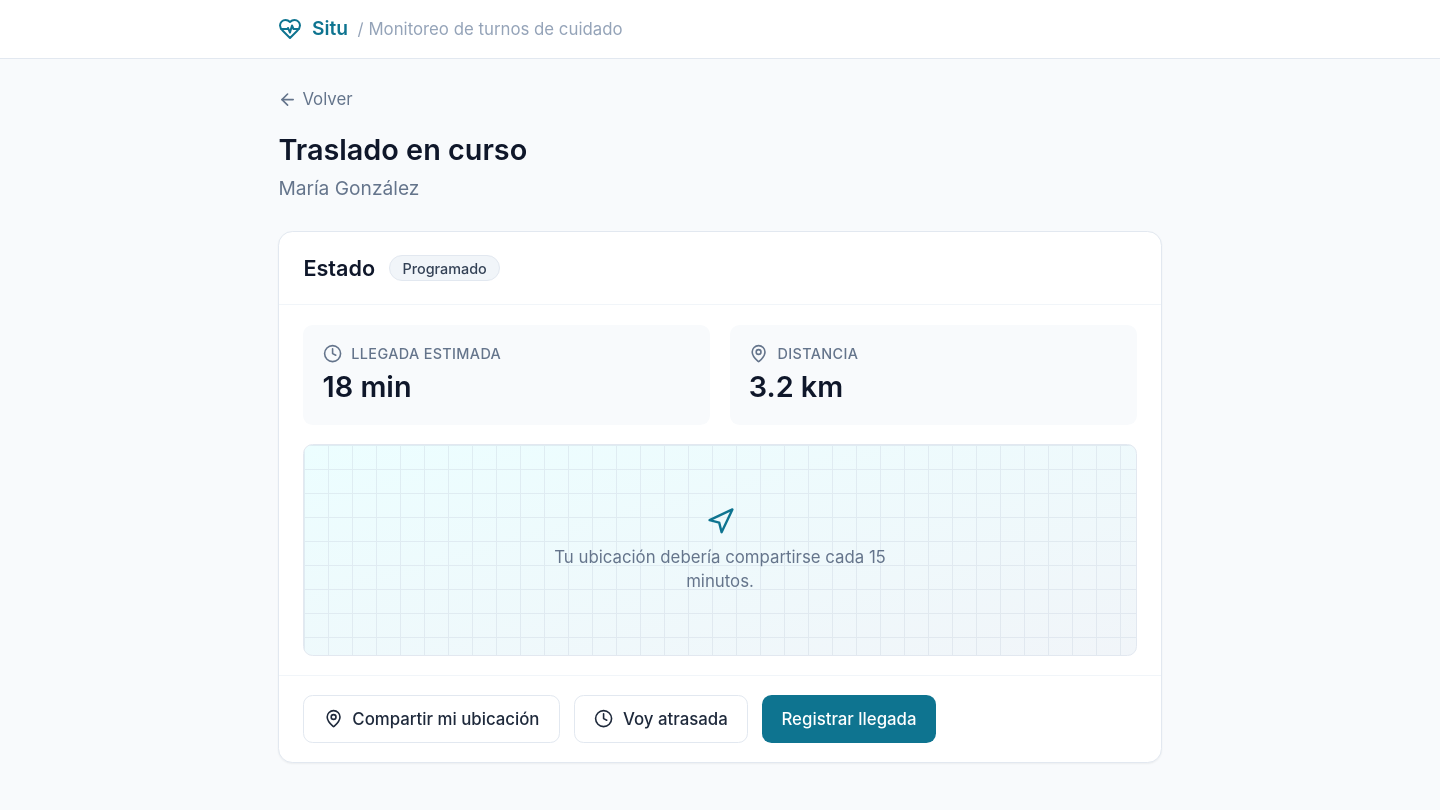
Test: TripTracking › opens the demo location dialog and reports on time without a delay
What coordinates should you click on to do the following:
click the button "Compartir mi ubicación"
I would click on:
 (432, 719)
Its box is [303,695,560,743].
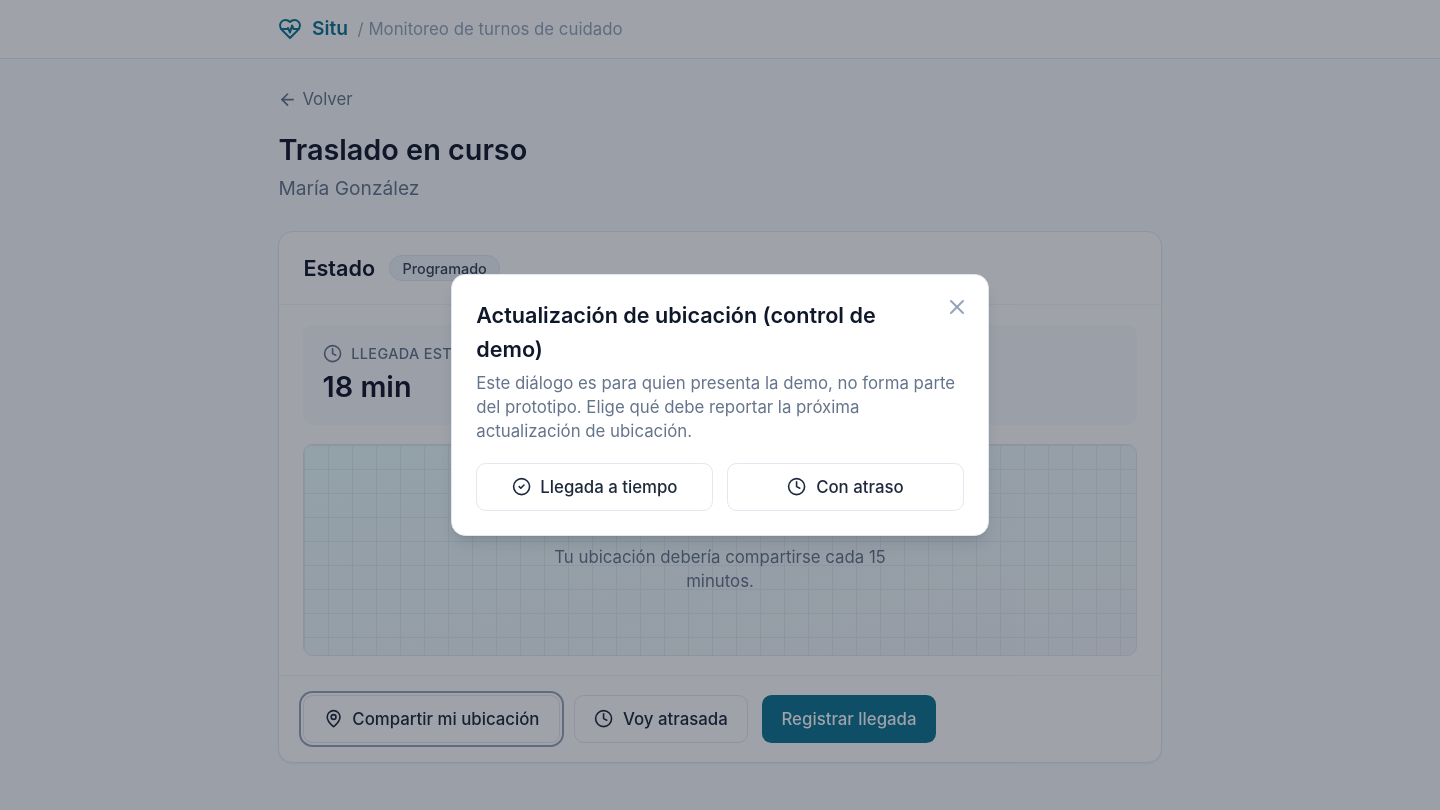
Expected: the dialog is shown, [451,274,989,536]
What coordinates should you click on to do the following:
click the button "Llegada a tiempo"
I would click on:
 (594, 487)
Its box is [476,463,713,511].
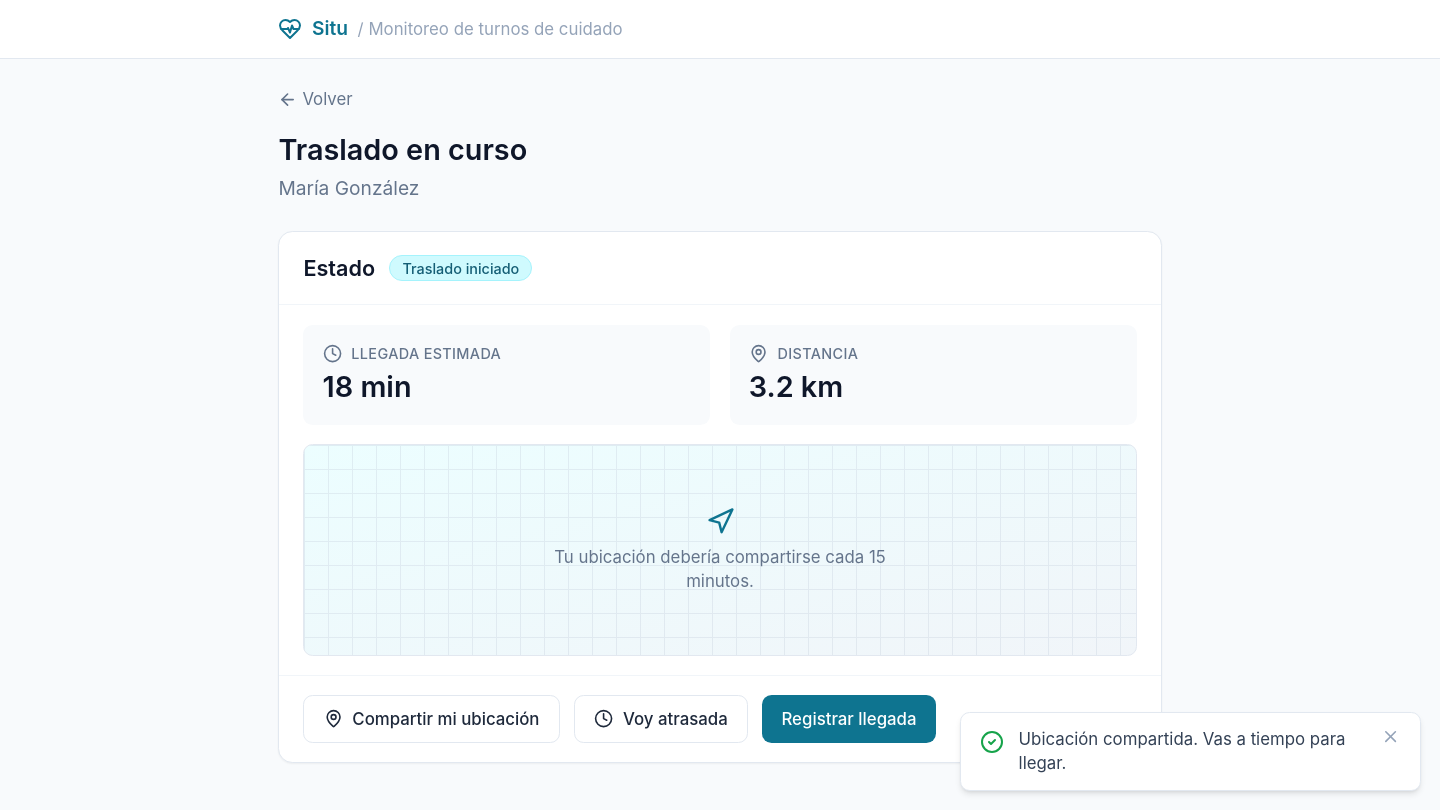
Expected: the text "Ubicación compartida. Vas a tiempo para llegar." is shown, [1019,727,1367,775]
